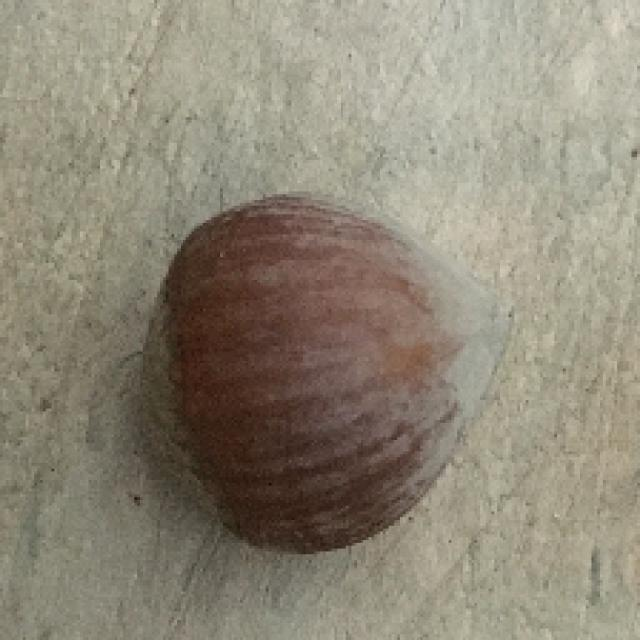qualityHazelnut: (143, 176, 491, 559)
